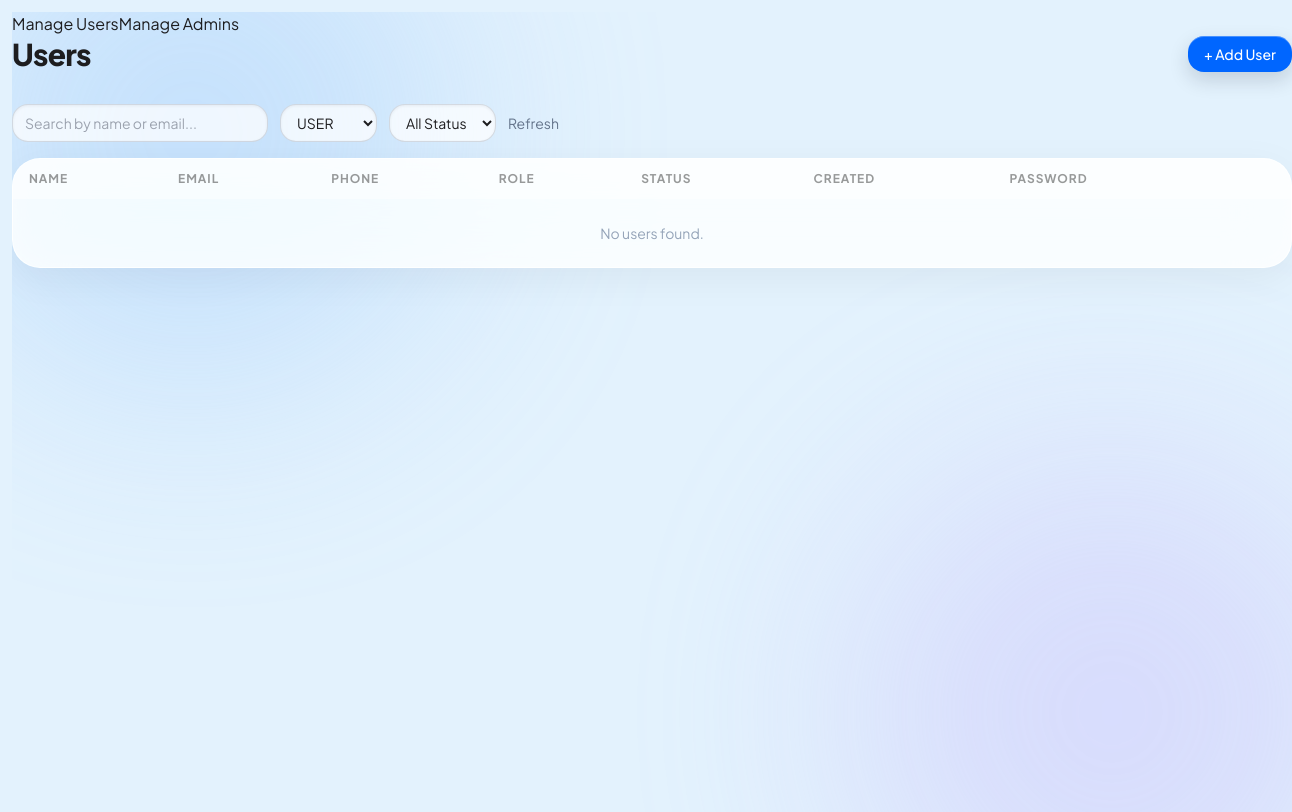
UsersListPage - role filter driven by the URL (Manage Users / Manage Admins) › switching sidebar links updates the filter without a page reload
Expected: the text "No users found." is shown, [13,199,1291,267]
Expected: the link "+ Add User" is shown, [1188,36,1291,72]
Click the link "Manage Admins" at (179, 24), box [119,13,239,34]
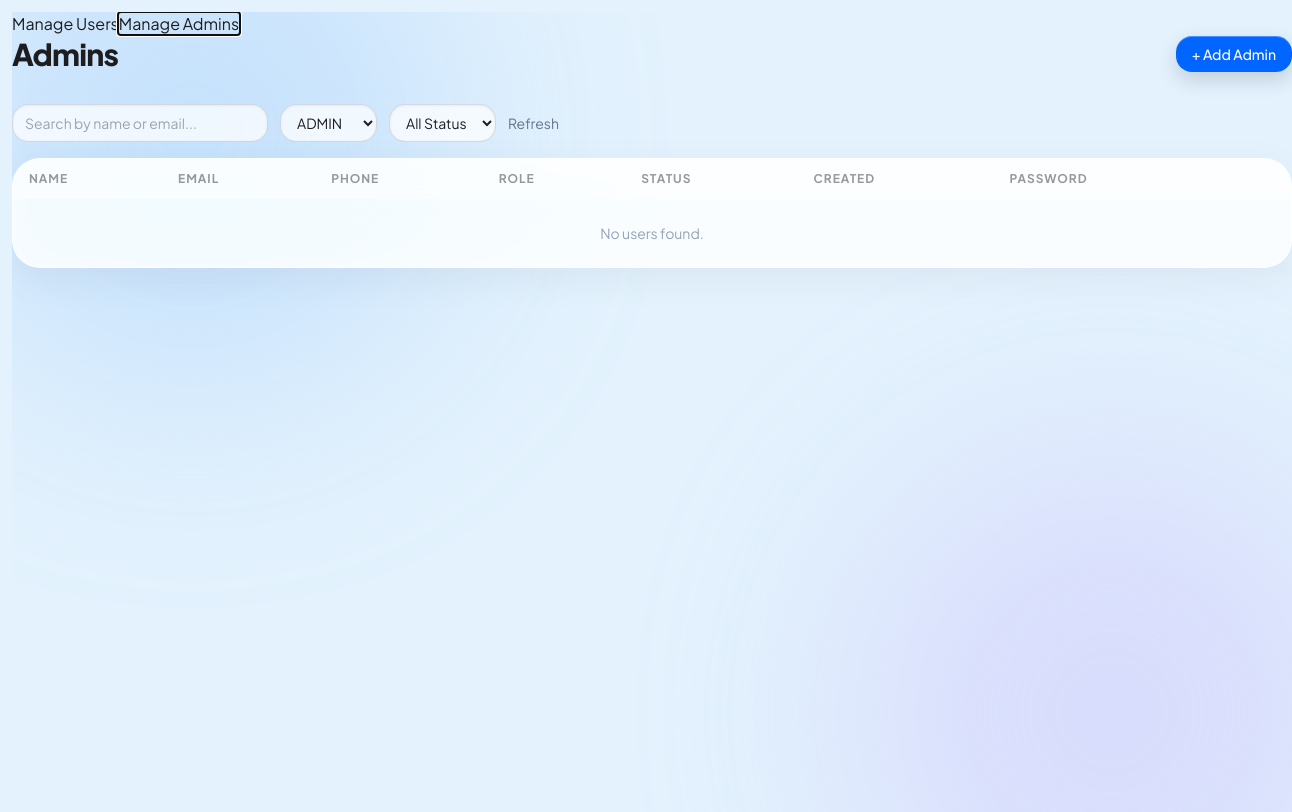
Now the dropdown named "Role" shows "ADMIN", box [280,104,377,142]
Now the heading "Admins" is shown, box [12,36,118,72]
Click the link "Manage Users" at (65, 24), box [12,13,119,34]
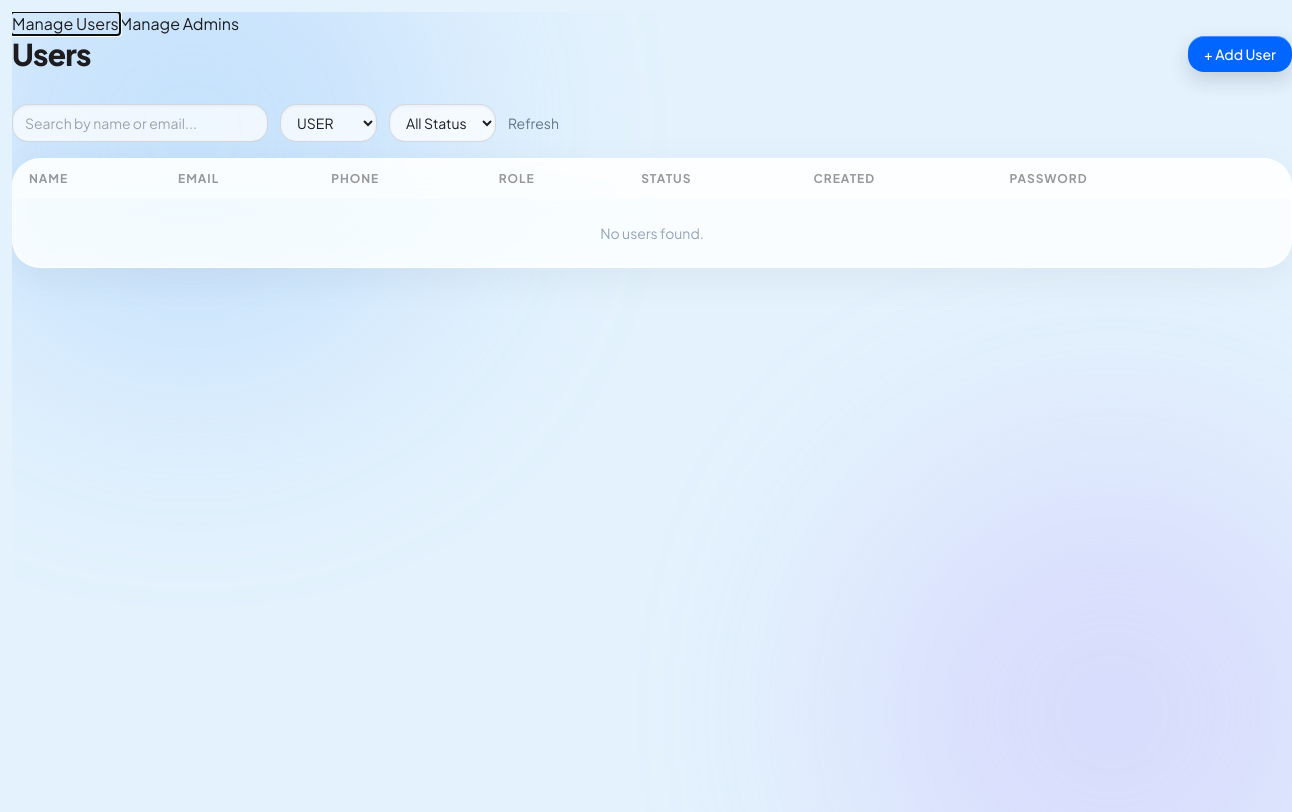
Now the dropdown named "Role" shows "USER", box [280,104,377,142]
